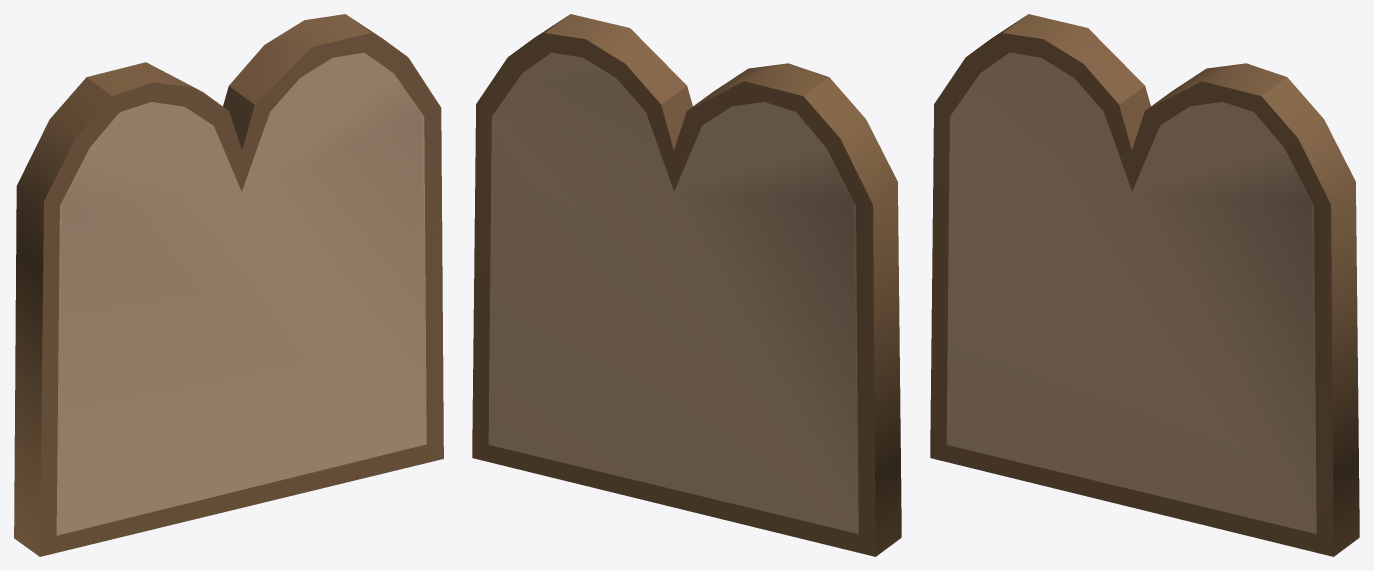
File: bread.fbx
3 renders of one model, left to right at view 1: azimuth 30°, elevation 25°; view 2: azimuth 150°, elevation 25°; view 3: azimuth 330°, elevation 25°, orthographic.
Parts seen in each view (by area): view 1: bread; view 2: bread; view 3: bread.
Boxes of the visible parts, x1,y1,x2,y2 form: bread: [14, 14, 443, 556]; bread: [472, 14, 901, 556]; bread: [930, 14, 1359, 556].
Bounding box in the file's own units: 952 × 1008 × 107.
